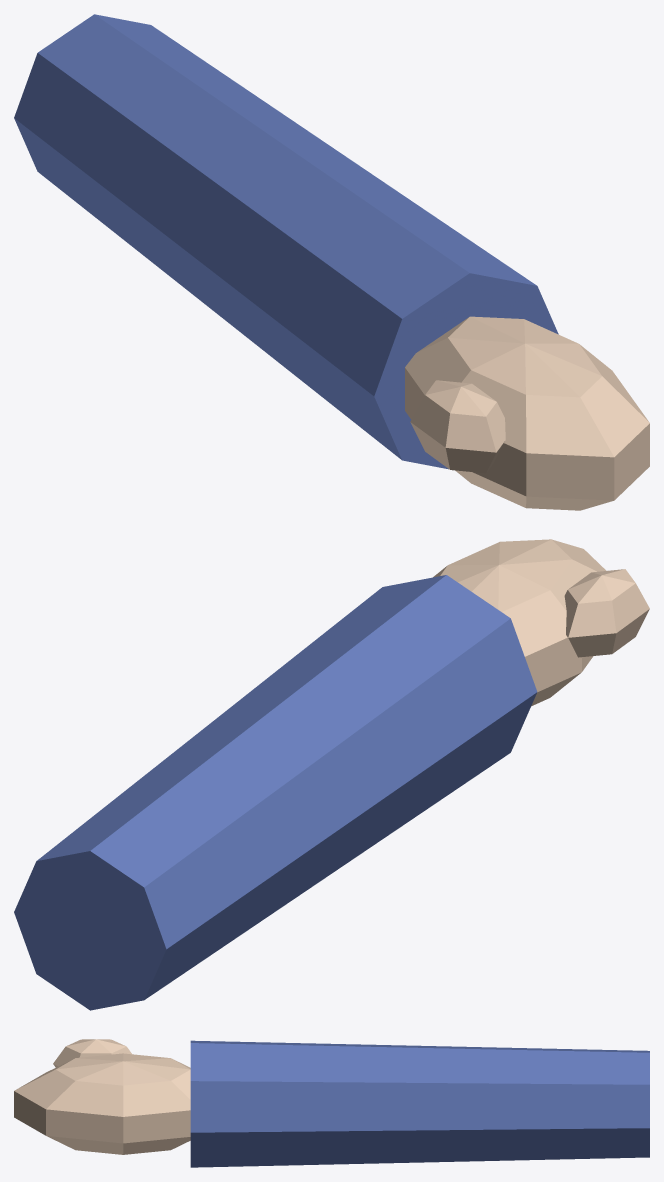
The model's file is FPArm.fbx.
3 views of the same model, one above another, from view 1: azimuth 30°, elevation 25°; view 2: azimuth 150°, elevation 25°; view 3: azimuth 270°, elevation 25° (orthographic). The views are drawn at different scales.
Parts seen in each view (by area): view 1: FPArm; view 2: FPArm; view 3: FPArm.
Boxes of the visible parts, box(x1,y1,x2,y2) form: FPArm: box(14, 14, 649, 510); FPArm: box(14, 539, 649, 1010); FPArm: box(14, 1039, 649, 1167).
Bounding box in the file's own units: 0.1123 × 0.1 × 0.4708.
